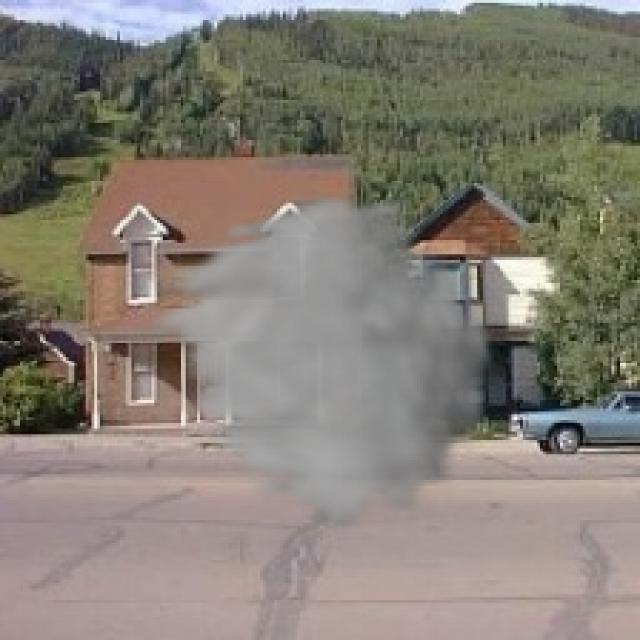Smoke: (137, 192, 500, 534)
